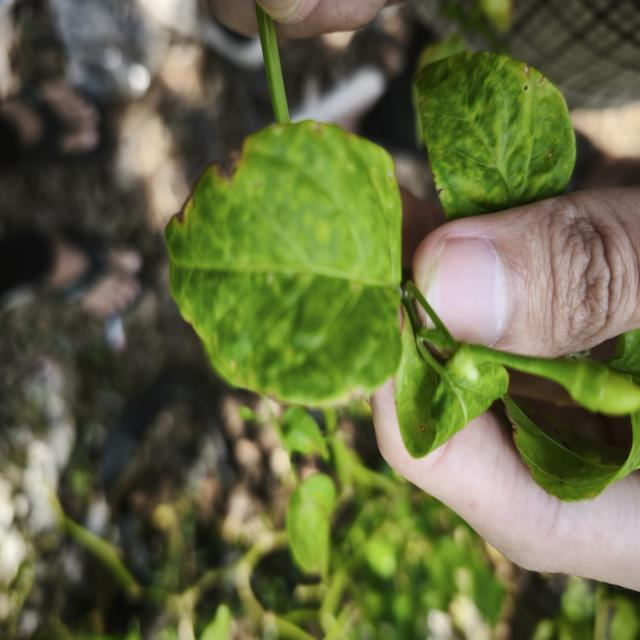Virus Kuning: (164, 117, 404, 409), (412, 48, 577, 222)
